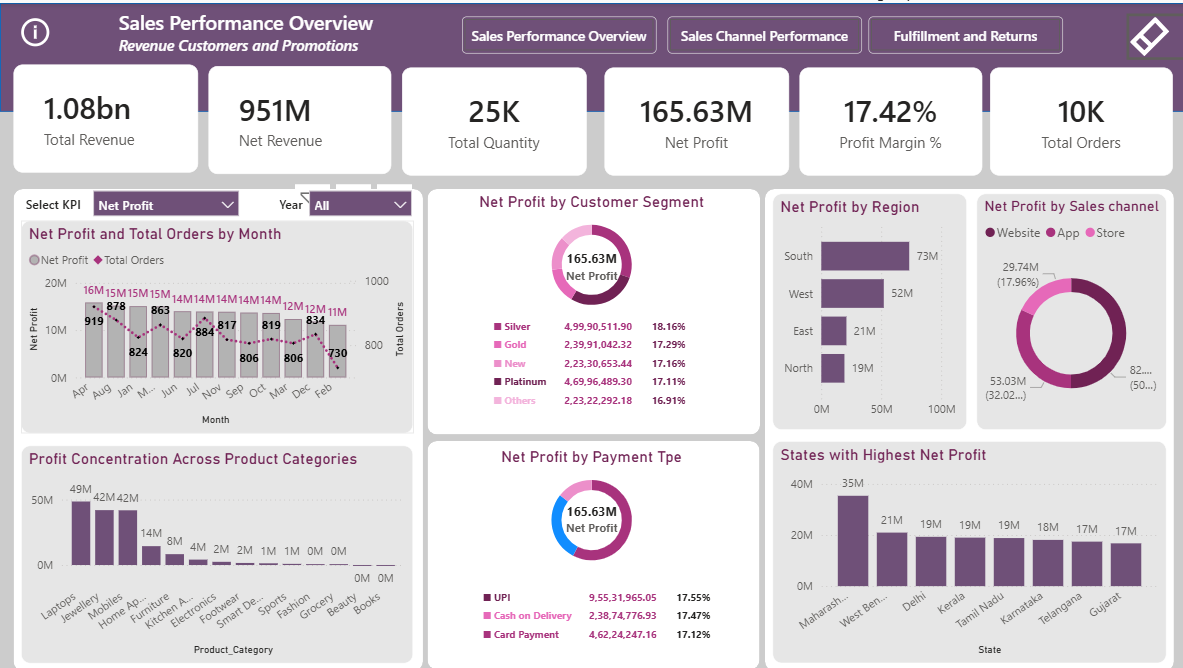

The dashboard page shown, as its layout file describes it:
{"tool":"powerbi","page":{"name":"Page 1","canvas":[1280,720],"ordinal":0},"visuals":[{"type":"shape","box":[462,200,359,265],"z":0},{"type":"shape","box":[0,0,1280,117.5],"z":1000},{"type":"cardVisual","fields":{"Data":["Measure table.Net Revenue"]},"box":[225.1,68,197.5,116.6],"z":2000},{"type":"cardVisual","fields":{"Data":["Measure table.Total Revenue"]},"box":[14.6,66.4,199.2,116.6],"z":3000},{"type":"cardVisual","fields":{"Data":["Measure table.Total Quantity"]},"box":[434,69.6,199.2,116.6],"z":4000},{"type":"cardVisual","fields":{"Data":["Measure table.Measure"]},"box":[652.5,69.6,199.2,116.6],"z":5000},{"type":"cardVisual","fields":{"Data":["Measure table.Profit Margin %"]},"box":[863,69.6,197.5,116.6],"z":6000},{"type":"cardVisual","fields":{"Data":["Measure table.Total Orders"]},"box":[1068.7,69.6,197.5,116.6],"z":7000},{"type":"shape","box":[14,200,442,520],"z":8000},{"type":"shape","box":[825.7,200,441.4,520],"z":9000},{"type":"lineStackedColumnComboChart","fields":{"Y":["Measure table.Net Profit"],"Y2":["Measure table.Total Orders"],"Category":["Date Table.Month"]},"box":[23.4,235.1,423.4,229.8],"z":10000},{"type":"slicer","fields":{"Values":["Monthly trend Parameter.Monthly trend Parameter"]},"box":[90.4,192.6,177.7,40.4],"z":11000},{"type":"textbox","box":[23.4,203.2,74.5,29.8],"z":12000},{"type":"slicer","fields":{"Values":["Date Table.Date.Variation.Date Hierarchy.Year"]},"box":[324.5,192.6,130.9,44.7],"z":13000},{"type":"columnChart","title":"Profit Concentration Across Product Categories","fields":{"Category":["product_dimension_table.Product_Category"],"Y":["Measure table.Net Profit"]},"box":[23.3,477.8,423.3,235],"z":14000},{"type":"tableEx","fields":{"Values":["customer_dimension_table.Customer Category Icon","Measure table.Net Profit","Measure table.Net Profit %"]},"box":[521.9,264.6,285.4,183.3],"z":15000},{"type":"donutChart","title":"Net Profit by Customer Segment","fields":{"Category":["customer_dimension_table.Customer Category Icon"],"Y":["Measure table.Net Profit"]},"box":[468.8,204.2,341.7,132.3],"z":16000},{"type":"shape","box":[461.7,473.3,358.3,246.7],"z":17000},{"type":"cardVisual","fields":{"Data":["Measure table.Measure"]},"box":[569.8,244.8,138.5,78.1],"z":18000},{"type":"tableEx","fields":{"Values":["orders_fact_table.Payment Icon","Measure table.Net Profit","Measure table.Net Profit %"]},"box":[510,574.3,285.7,128.6],"z":19000},{"type":"donutChart","title":"Net Profit by Payment Tpe","fields":{"Category":["orders_fact_table.Payment Icon"],"Y":["Measure table.Net Profit"]},"box":[468.6,480,341.4,132.9],"z":20000},{"type":"cardVisual","fields":{"Data":["Measure table.Measure"]},"box":[569.7,518.2,138.4,77.8],"z":21000},{"type":"barChart","fields":{"Category":["customer_dimension_table.Region"],"Y":["Measure table.Net Profit"]},"box":[833.3,205,210,255],"z":22000},{"type":"donutChart","fields":{"Category":["orders_fact_table.Sales channel"],"Y":["Measure table.Net Profit"]},"box":[1053.3,205,205,255],"z":23000},{"type":"columnChart","title":"States with Highest Net Profit","fields":{"Category":["customer_dimension_table.State"],"Y":["Measure table.Net Profit"]},"box":[833.3,473.3,425,240],"z":24000},{"type":"textbox","box":[295.8,203.1,63.5,29.2],"z":25000},{"type":"textbox","box":[123.1,0,299.6,66.4],"z":26000},{"type":"actionButton","box":[498.3,15,210,40],"z":27000},{"type":"actionButton","box":[938.3,15,210,40],"z":28000},{"type":"actionButton","box":[720,15,210,40],"z":29000},{"type":"actionButton","box":[17.8,11.3,53.4,40.5],"z":30000},{"type":"actionButton","box":[1215.2,11.3,64.8,50.2],"z":31000}]}

Visuals, with their boxes in screenshot pixels (x1, y1, x2, y2), scaled from the page's 1280x720 canvas onto the 1183x668 screenshot:
shape: (427, 186, 759, 431)
shape: (0, 0, 1182, 109)
cardVisual - Measure table.Net Revenue: (208, 63, 391, 171)
cardVisual - Measure table.Total Revenue: (13, 62, 198, 170)
cardVisual - Measure table.Total Quantity: (401, 65, 585, 173)
cardVisual - Measure table.Measure: (603, 65, 787, 173)
cardVisual - Measure table.Profit Margin %: (798, 65, 980, 173)
cardVisual - Measure table.Total Orders: (988, 65, 1170, 173)
shape: (13, 186, 421, 667)
shape: (763, 186, 1171, 667)
lineStackedColumnComboChart - Measure table.Net Profit x Measure table.Total Orders: (22, 218, 413, 431)
slicer - Monthly trend Parameter.Monthly trend Parameter: (84, 179, 248, 216)
textbox: (22, 189, 90, 216)
slicer - Date Table.Date.Variation.Date Hierarchy.Year: (300, 179, 421, 220)
"Profit Concentration Across Product Categories" columnChart: (22, 443, 413, 661)
tableEx - customer_dimension_table.Customer Category Icon x Measure table.Net Profit: (482, 245, 746, 416)
"Net Profit by Customer Segment" donutChart: (433, 189, 749, 312)
shape: (427, 439, 758, 667)
cardVisual - Measure table.Measure: (527, 227, 655, 300)
tableEx - orders_fact_table.Payment Icon x Measure table.Net Profit: (471, 533, 735, 652)
"Net Profit by Payment Tpe" donutChart: (433, 445, 749, 569)
cardVisual - Measure table.Measure: (527, 481, 654, 553)
barChart - customer_dimension_table.Region x Measure table.Net Profit: (770, 190, 964, 427)
donutChart - orders_fact_table.Sales channel x Measure table.Net Profit: (973, 190, 1163, 427)
"States with Highest Net Profit" columnChart: (770, 439, 1163, 662)
textbox: (273, 188, 332, 216)
textbox: (114, 0, 391, 62)
actionButton: (461, 14, 655, 51)
actionButton: (867, 14, 1061, 51)
actionButton: (665, 14, 860, 51)
actionButton: (16, 10, 66, 48)
actionButton: (1123, 10, 1182, 57)
